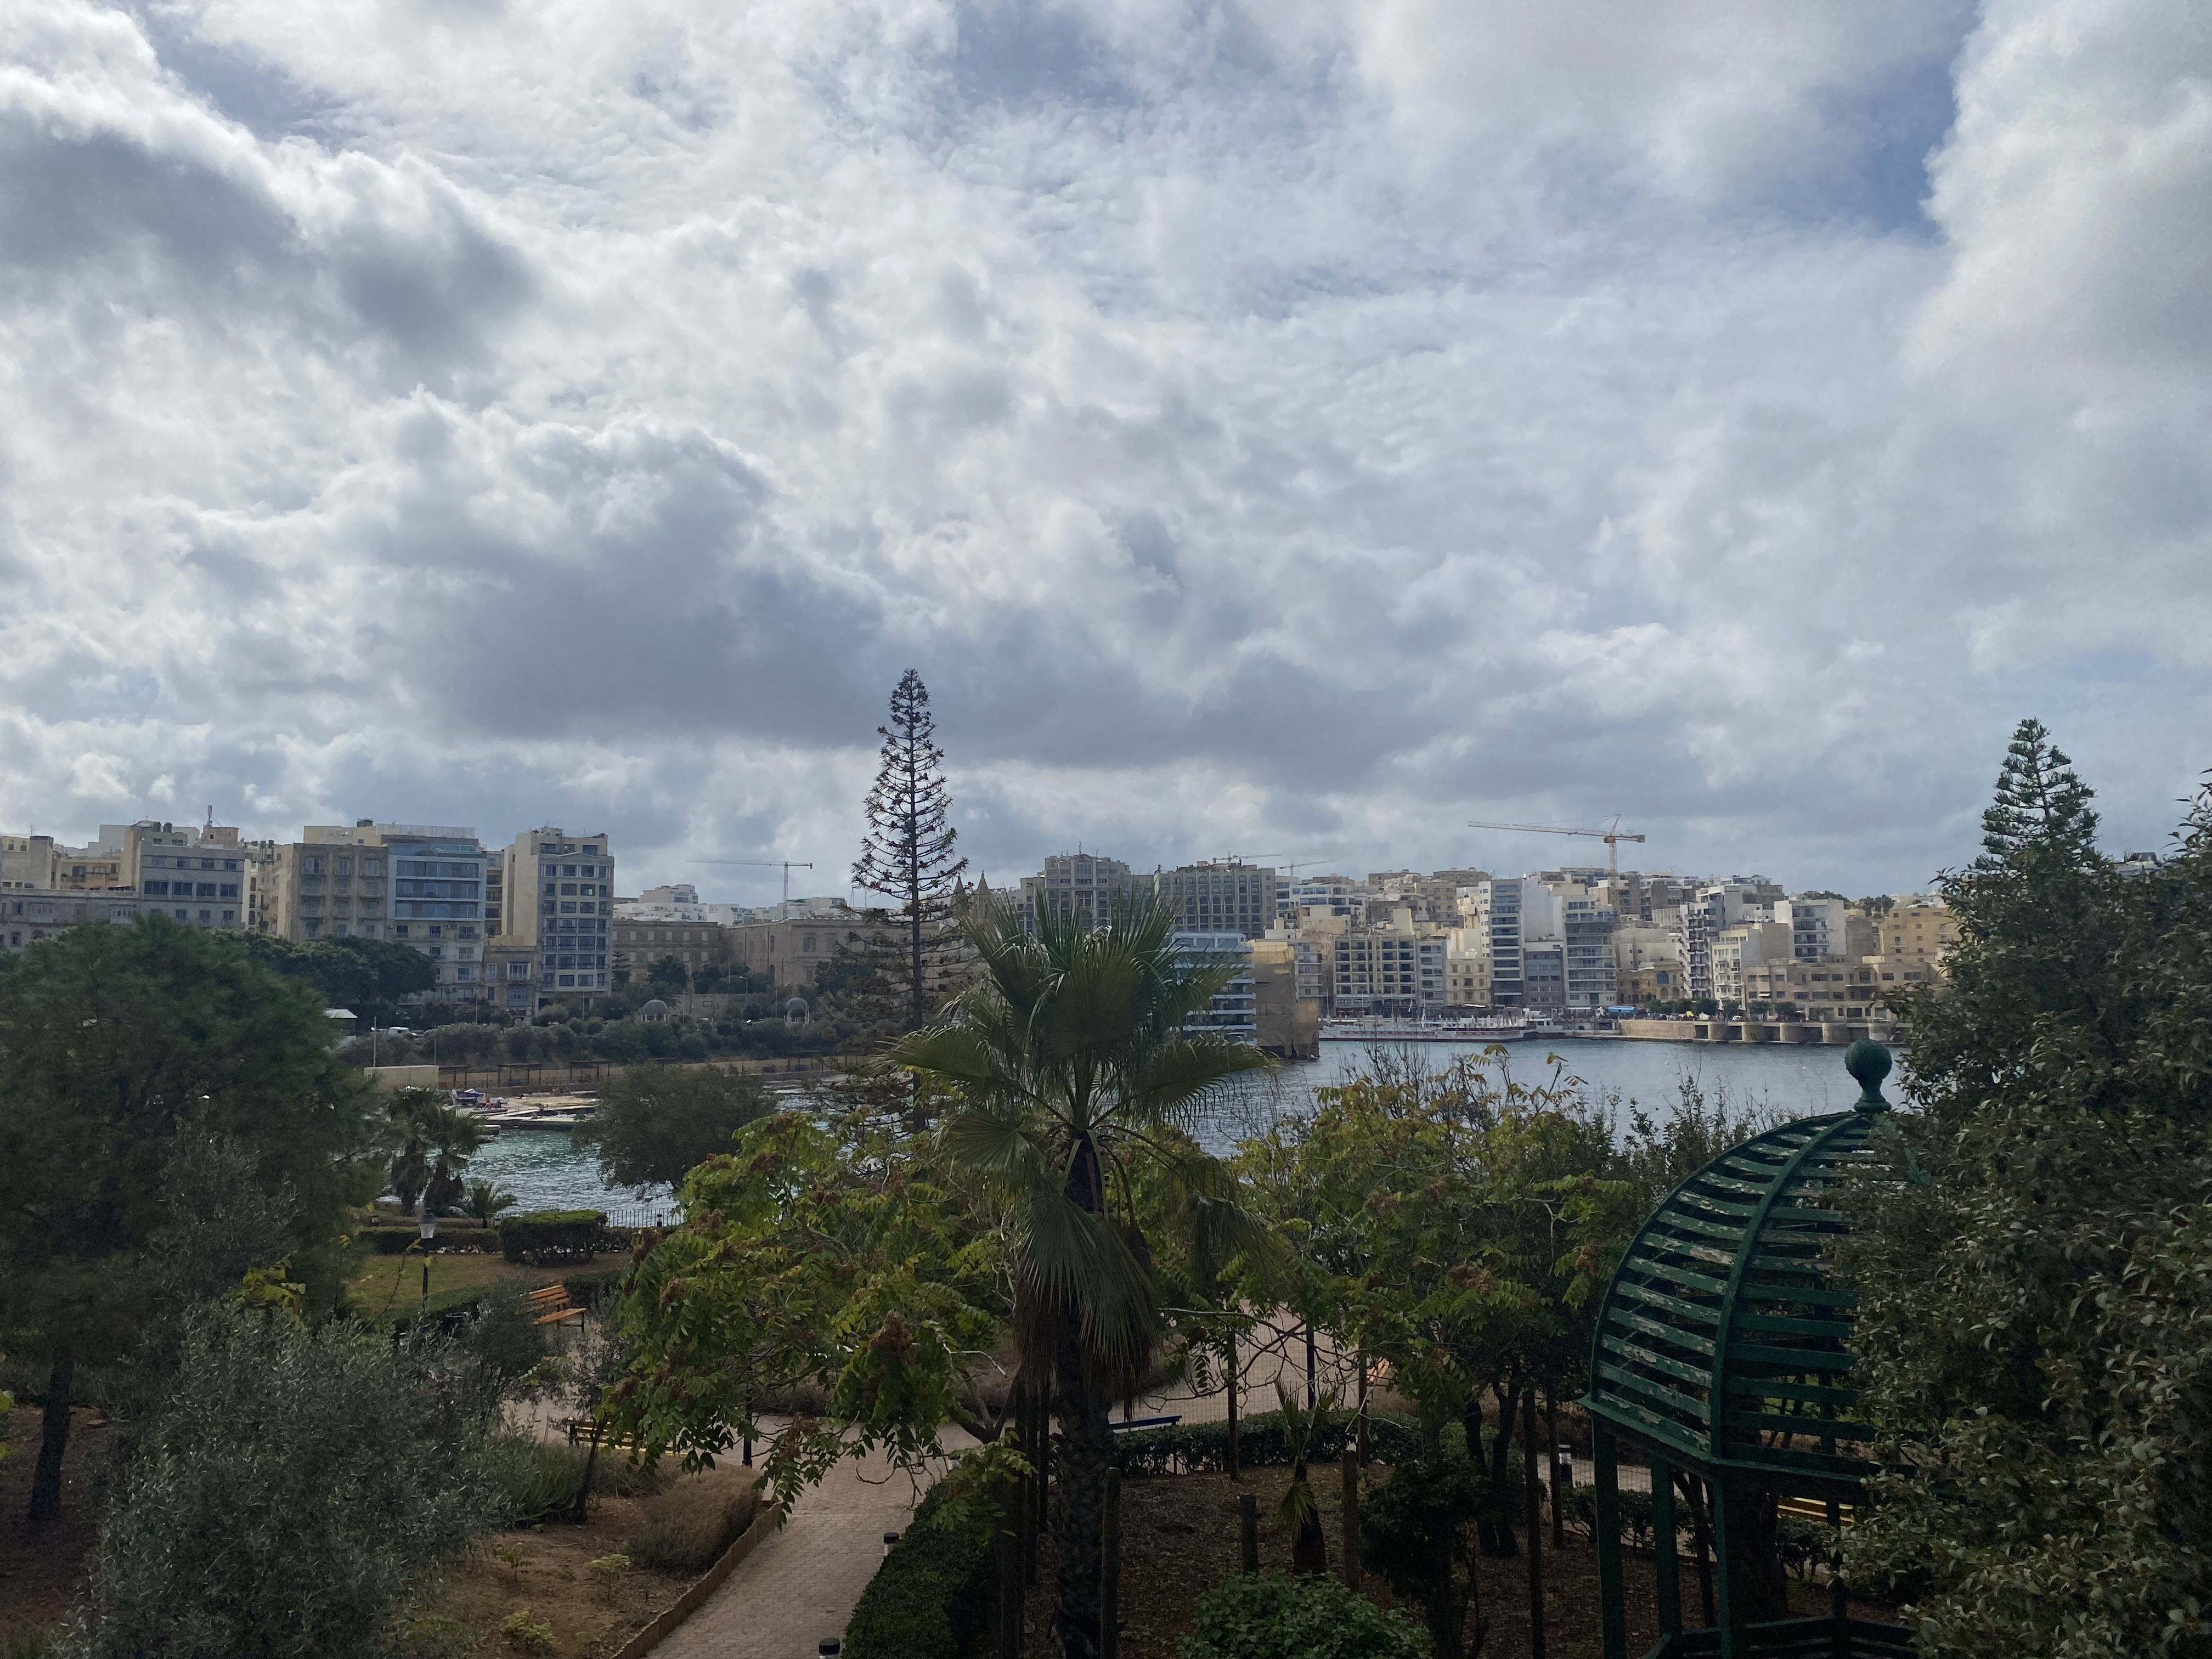crane: (1450, 794, 1672, 868)
